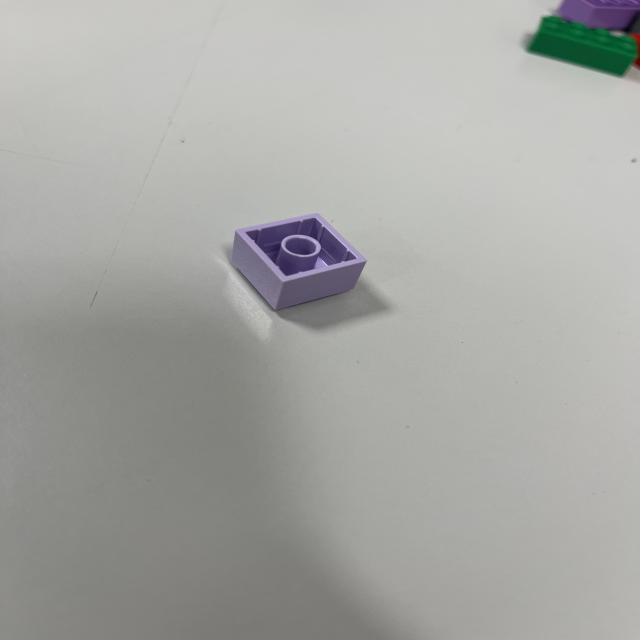C2x1x0: (229, 212, 368, 311)
